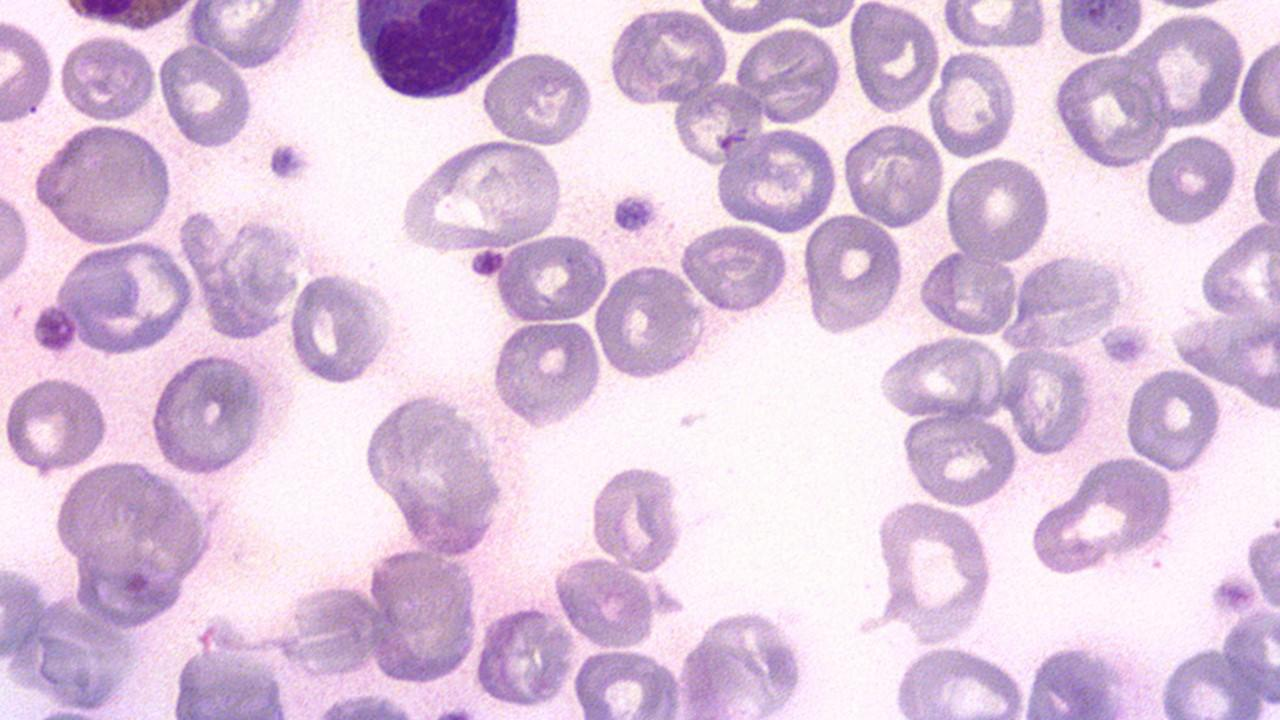Platelets: (1098, 320, 1154, 366), (264, 138, 313, 187), (610, 189, 661, 235), (467, 246, 506, 281)
RBC: (396, 136, 566, 257), (1025, 450, 1179, 580), (31, 121, 176, 248), (177, 199, 312, 335), (874, 498, 998, 644), (50, 237, 198, 358), (672, 604, 827, 716), (362, 550, 482, 686), (147, 351, 274, 478), (591, 262, 712, 382), (1004, 252, 1144, 354), (1049, 52, 1169, 169), (1132, 8, 1246, 130), (711, 127, 840, 233), (798, 212, 908, 335), (286, 270, 399, 387), (606, 4, 732, 107), (489, 318, 605, 427), (942, 154, 1053, 266), (899, 409, 1020, 510), (480, 47, 599, 148), (588, 460, 691, 573), (876, 334, 1006, 423), (1024, 644, 1187, 714), (840, 121, 946, 228), (1, 374, 113, 475), (472, 603, 576, 711), (1121, 366, 1225, 474), (731, 27, 845, 125), (156, 42, 256, 150), (849, 1, 943, 115), (680, 222, 794, 315), (493, 232, 608, 324), (550, 555, 659, 649), (889, 644, 1031, 716), (926, 48, 1018, 159), (1003, 346, 1097, 454), (1140, 132, 1240, 229), (55, 33, 158, 123), (916, 248, 1019, 337), (1154, 644, 1274, 718), (185, 2, 312, 71), (670, 81, 762, 169), (568, 648, 682, 716), (1218, 601, 1280, 712), (0, 11, 56, 127), (941, 2, 1050, 51), (1054, 1, 1146, 58), (1236, 35, 1280, 138), (1246, 512, 1280, 628), (0, 183, 32, 296), (694, 0, 790, 34), (1249, 138, 1279, 236)
WBC: (16, 16, 840, 720), (719, 32, 1277, 720), (317, 0, 1144, 440), (923, 166, 1181, 462), (46, 456, 228, 632), (358, 378, 528, 558), (1167, 212, 1280, 422), (346, 1, 528, 105), (676, 611, 830, 718), (607, 3, 733, 108)
